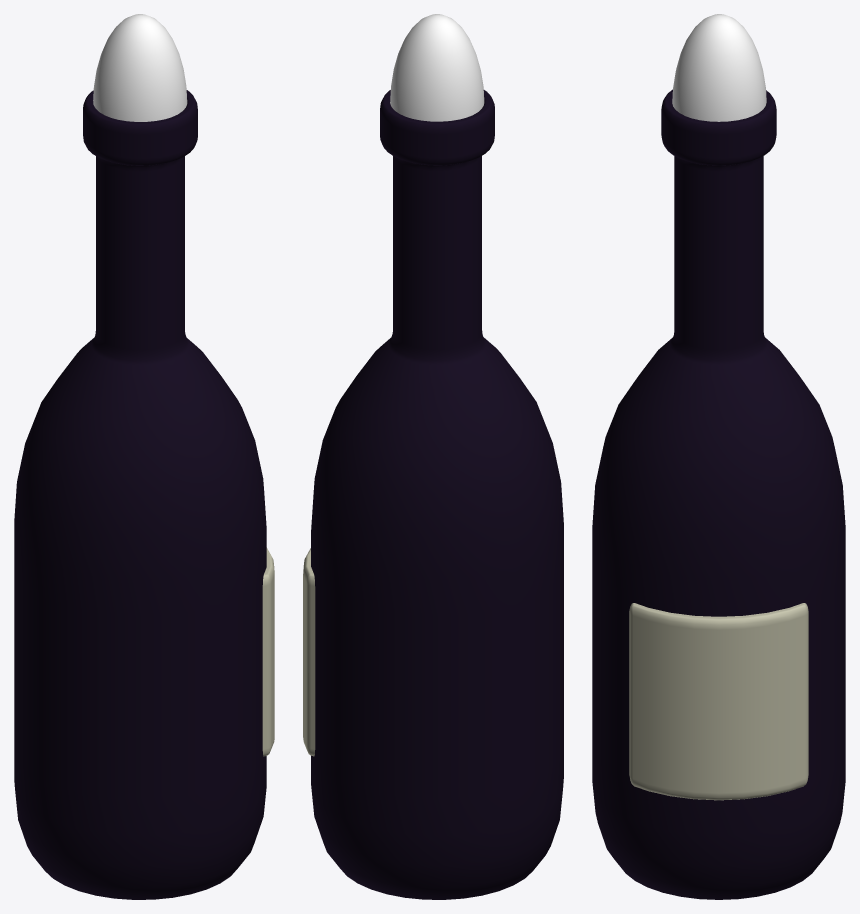
File: bottle.glb
The picture shows the model from 3 angles, left to right: view 1: azimuth 30°, elevation 25°; view 2: azimuth 150°, elevation 25°; view 3: azimuth 270°, elevation 25°; orthographic projection.
Parts seen in each view (by area): view 1: wine bottle; view 2: wine bottle; view 3: wine bottle.
Part boxes in pixels (left/top/right/bottom): wine bottle: left=14, top=14, right=274, bottom=899; wine bottle: left=303, top=14, right=563, bottom=899; wine bottle: left=592, top=14, right=845, bottom=899.
Size of the model in its own units: 0.7415 by 2.64 by 0.7153.
